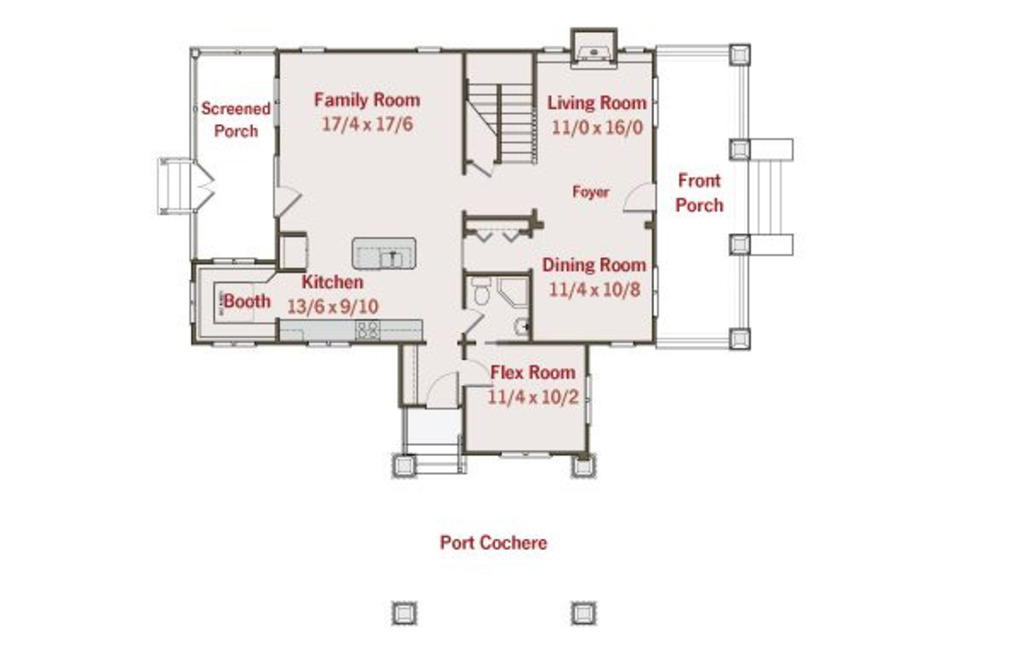door: (186, 153, 219, 212), (422, 371, 465, 414), (618, 176, 663, 214), (267, 180, 306, 216), (461, 354, 496, 390), (465, 154, 499, 178), (463, 307, 486, 337)
kitchen_bar: (346, 232, 436, 278)
large_sink: (466, 273, 493, 305)
small_sink: (509, 315, 535, 341)
stairs: (466, 50, 539, 162)
twin_sink: (373, 247, 406, 271)
window: (580, 372, 597, 428), (498, 447, 553, 463), (206, 336, 263, 351), (292, 40, 330, 61), (416, 41, 445, 59), (216, 255, 258, 267)
